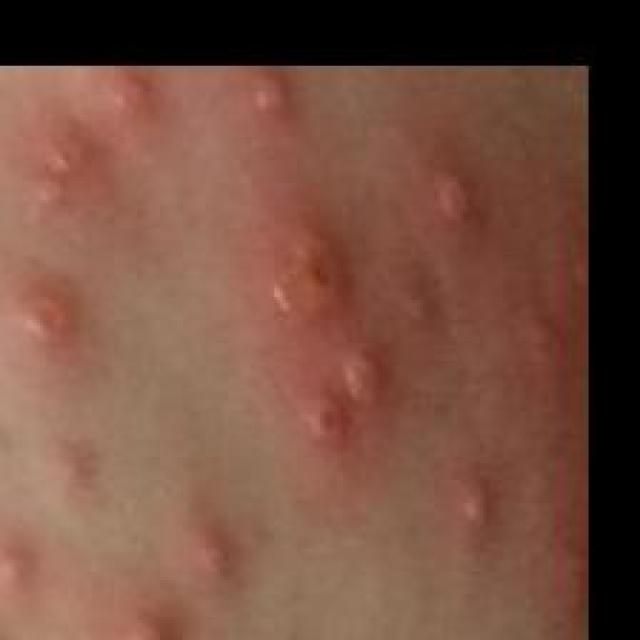others: (0, 65, 569, 640)
